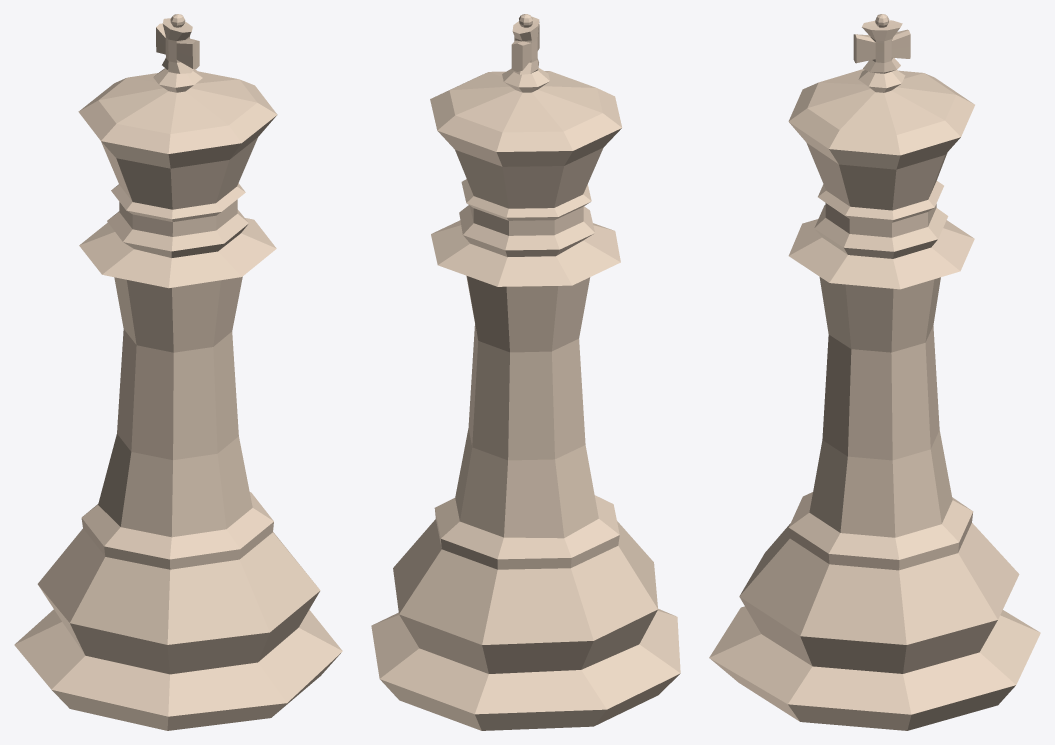
The model's file is King white.fbx.
3 renders of one model, left to right at view 1: azimuth 30°, elevation 25°; view 2: azimuth 150°, elevation 25°; view 3: azimuth 270°, elevation 25°, orthographic.
Visible parts, largest first — view 1: King.001; view 2: King.001; view 3: King.001.
Boxes of the visible parts, x1,y1,x2,y2 form: King.001: [14, 14, 342, 730]; King.001: [371, 14, 680, 730]; King.001: [709, 14, 1040, 730].
Bounding box in the file's own units: 0.0423 × 0.095 × 0.0434.
